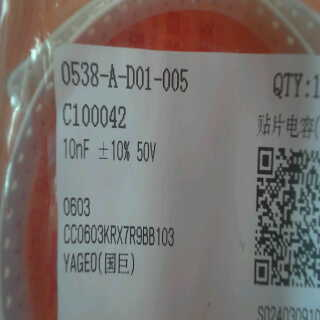10nF: (61, 136, 93, 163)
